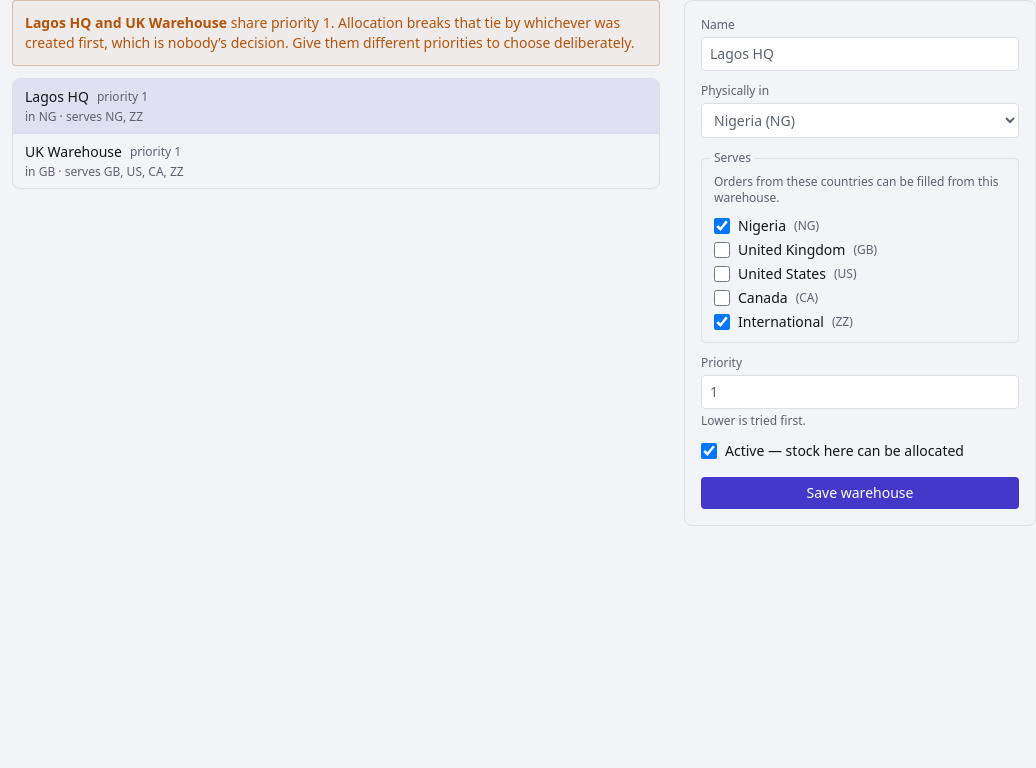
it: WarehouseManager › REFUSES TO SEND AN EDIT THAT STRANDS A MARKET UNTIL IT IS CONFIRMED IN WORDS
Step 1. Click the checkbox labelled "Nigeria (NG)" → (722,226), box [714, 218, 730, 234]
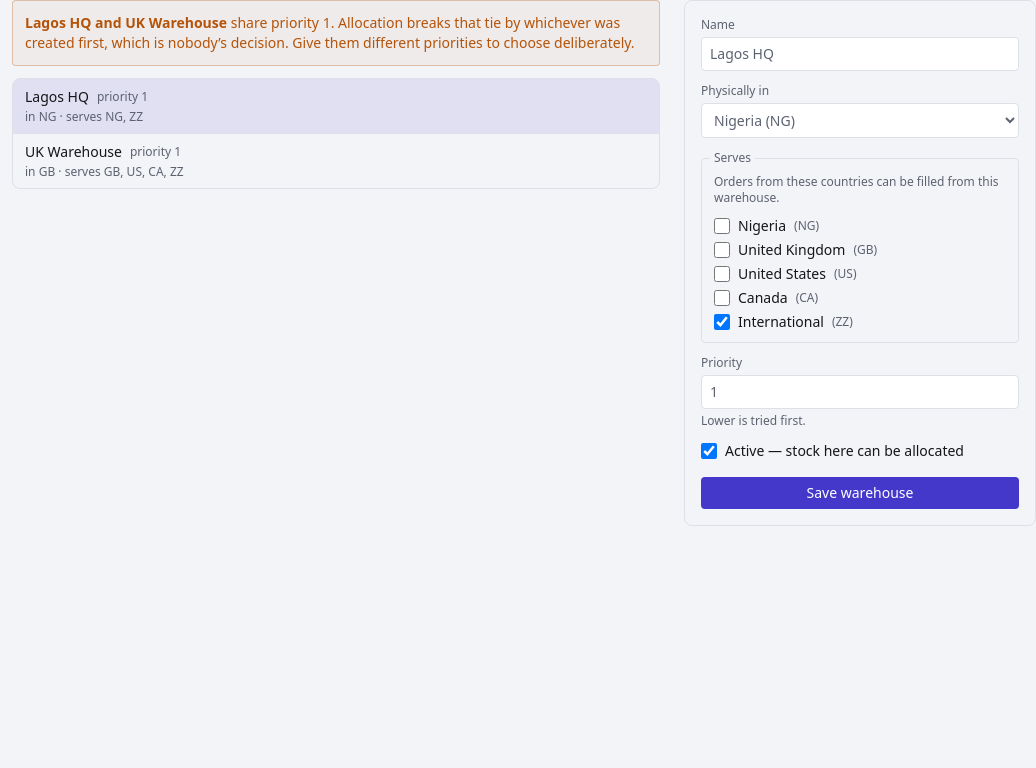
Step 2. Click the button "Save warehouse" → (860,493), box [701, 477, 1019, 509]
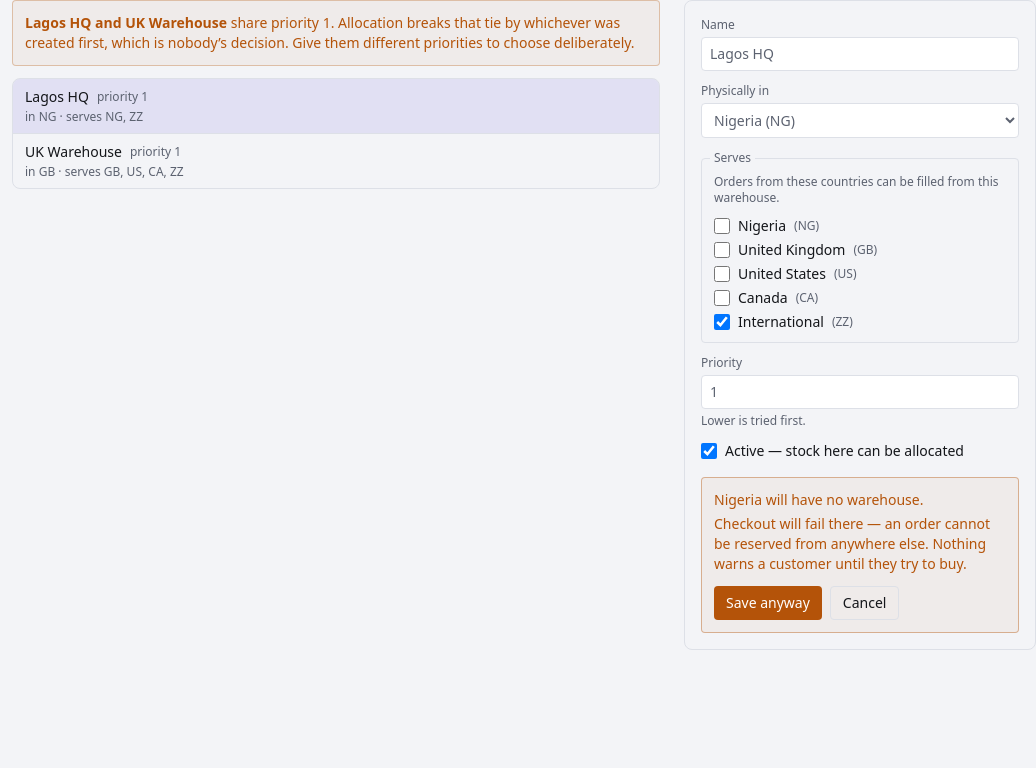
Expected: the text "Nigeria will have no warehouse." is shown, [714, 490, 923, 509]
Expected: the text "Checkout will fail there" is shown, [714, 514, 990, 573]
